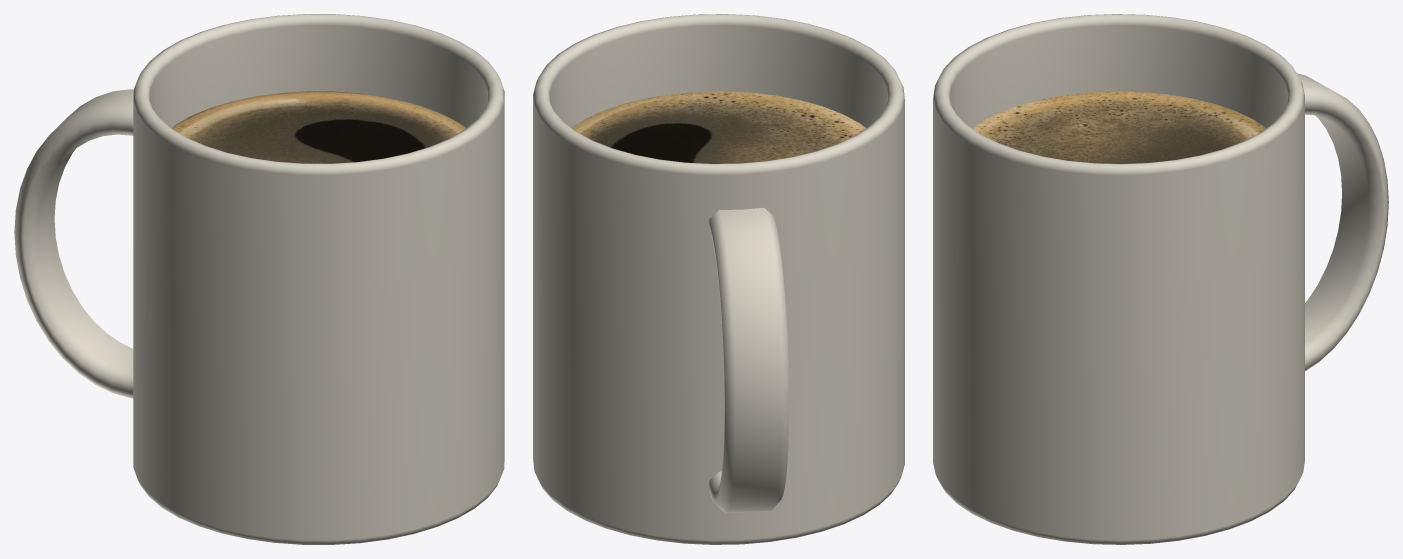
Rendered from mug.glb.
3 renders of one model, left to right at view 1: azimuth 30°, elevation 25°; view 2: azimuth 150°, elevation 25°; view 3: azimuth 270°, elevation 25°, orthographic.
Visible parts, largest first — view 1: Mug1_Mug_0, Mug1_Coffee_0; view 2: Mug1_Mug_0, Mug1_Coffee_0; view 3: Mug1_Mug_0, Mug1_Coffee_0.
Part boxes in pixels (box(x1,y1,x2,y2)): Mug1_Mug_0: box(14, 14, 504, 544); Mug1_Coffee_0: box(171, 91, 466, 163); Mug1_Mug_0: box(533, 14, 904, 544); Mug1_Coffee_0: box(572, 91, 866, 163); Mug1_Mug_0: box(933, 14, 1388, 544); Mug1_Coffee_0: box(972, 91, 1265, 163).
Size of the model in its own units: 0.0903 by 0.095 by 0.1031.
2 materials, 1 textured.
